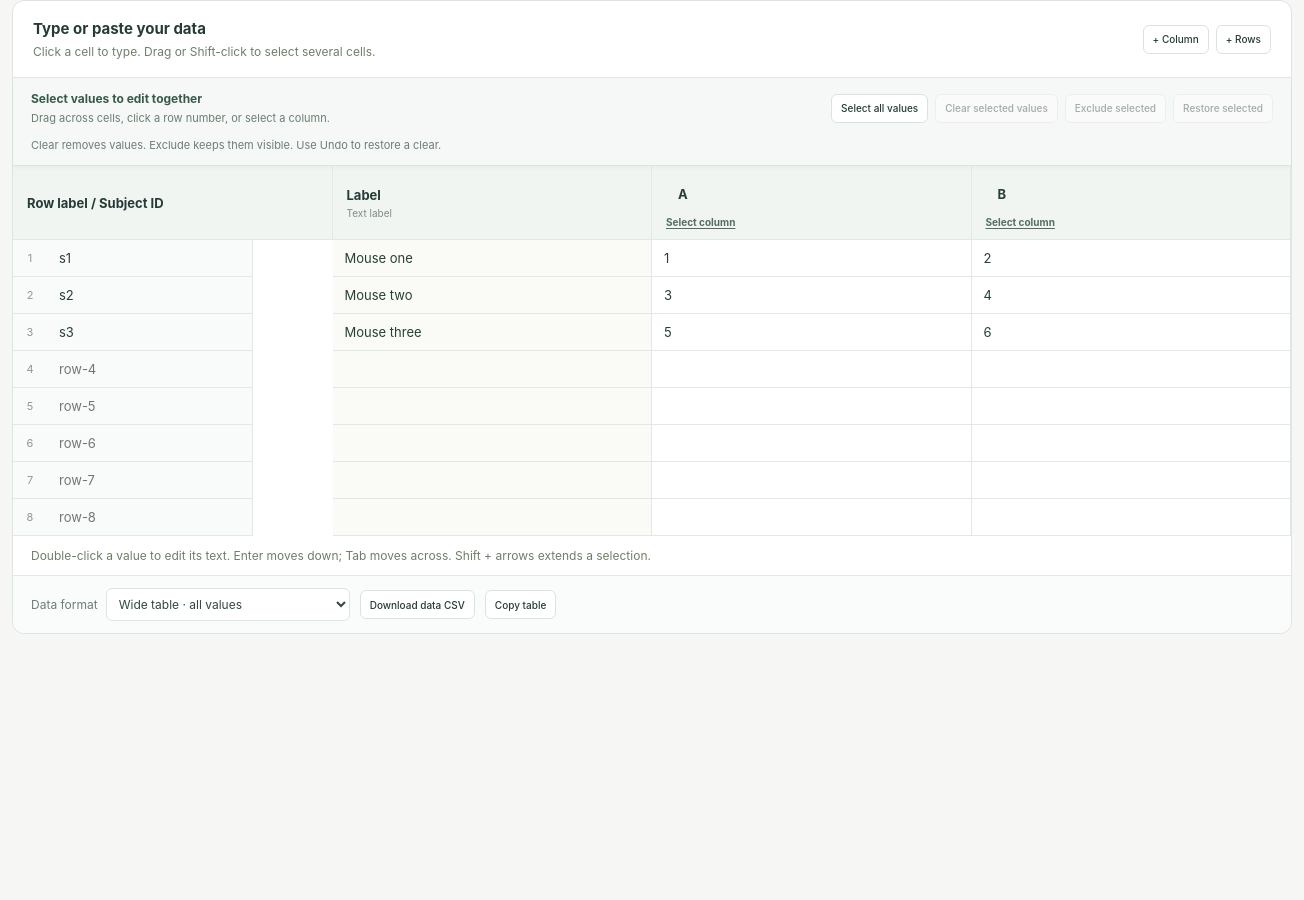
Test: offers visible multi-cell clear and keeps the cleared rows and labels after reopening the table
Press the mouse on the field named "A, row 1" at (811, 258), box x1=652 y1=240 x2=970 y2=276
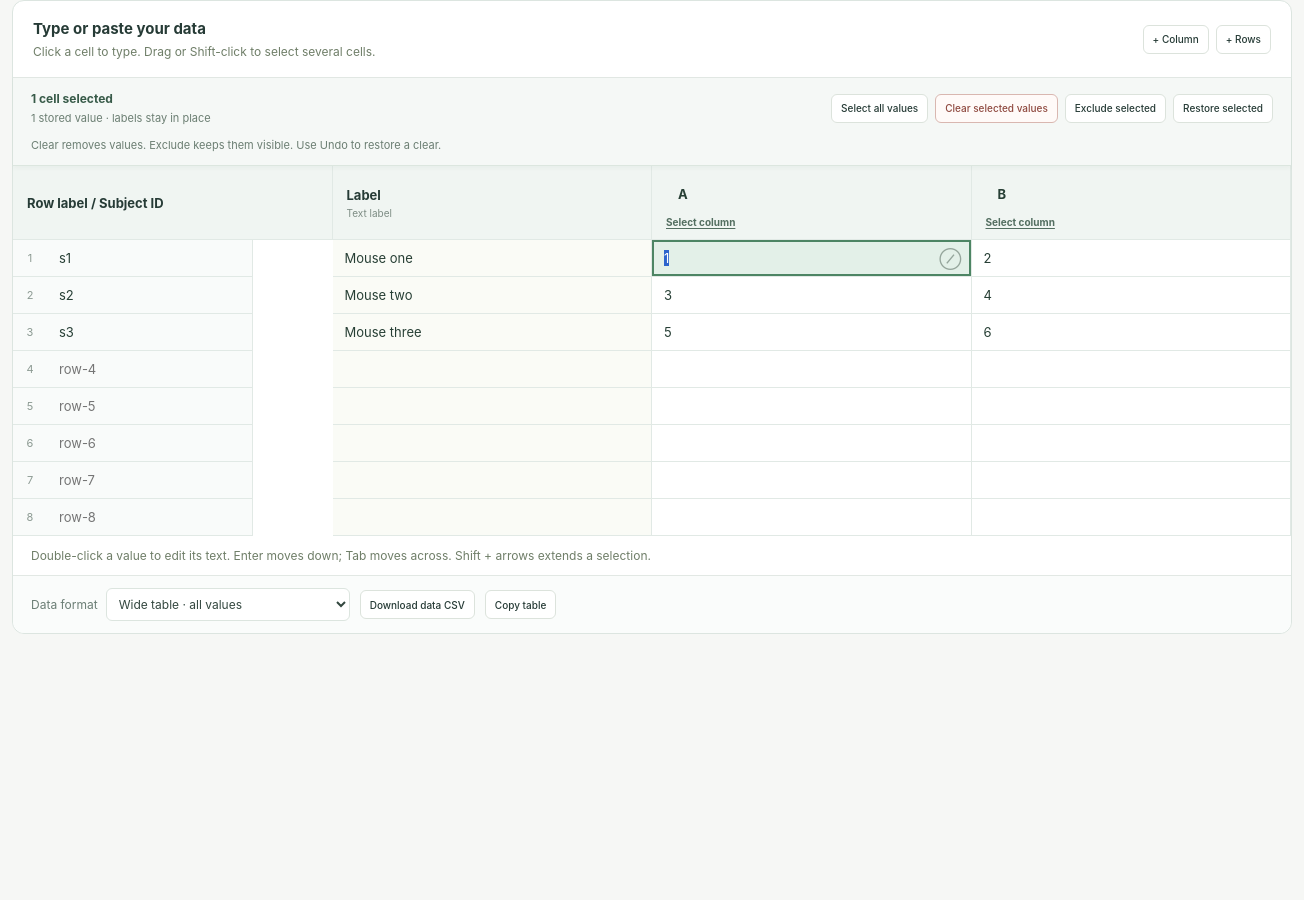
Press the mouse on the field named "B, row 2" at (1131, 295), box x1=972 y1=277 x2=1290 y2=313
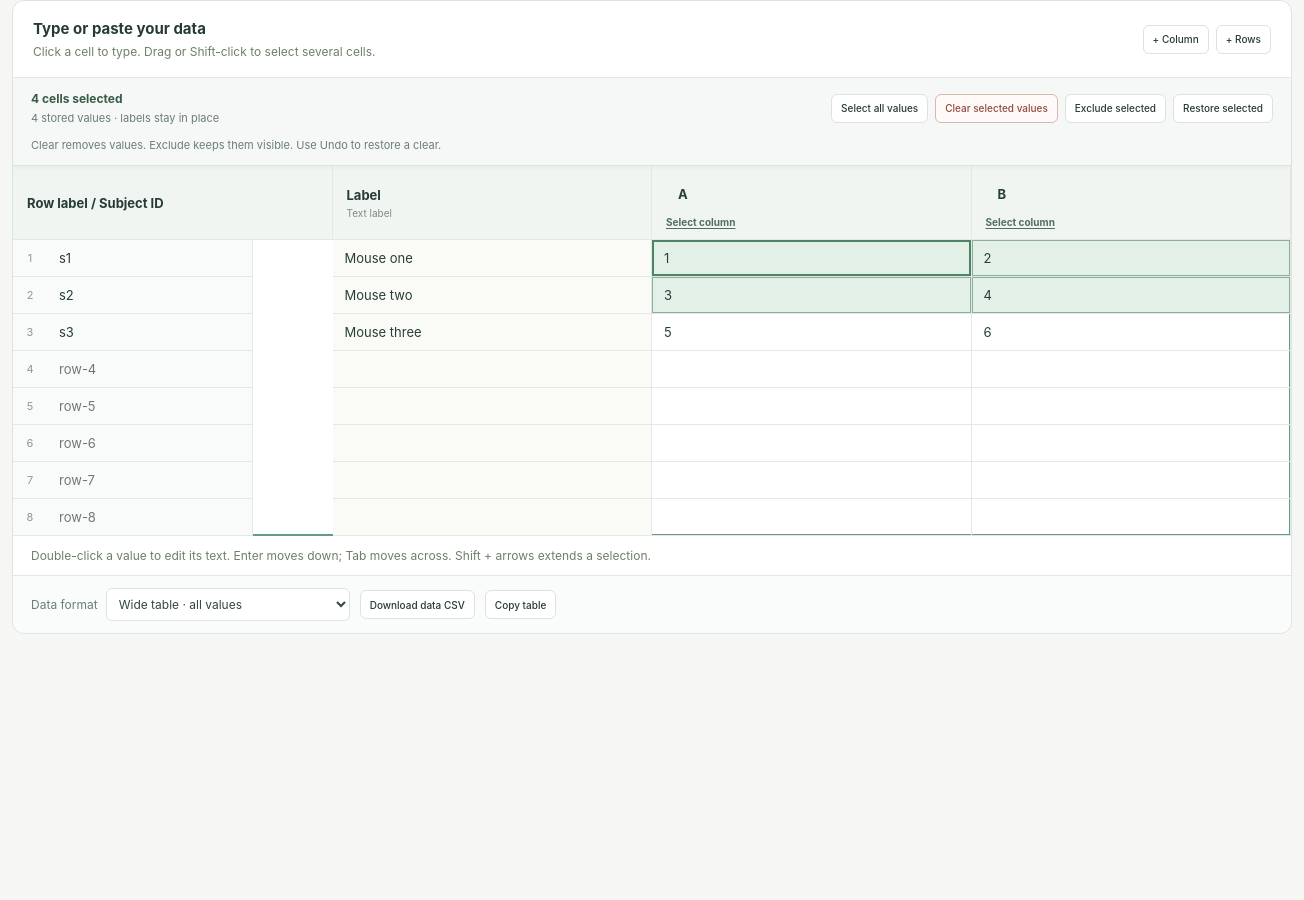
Expected: the button "Clear selected values" is enabled
Expected: the text "4 cells selected" is shown, x1=31 y1=91 x2=123 y2=106
Click the button "Clear selected values" at (997, 108), box x1=935 y1=94 x2=1058 y2=122
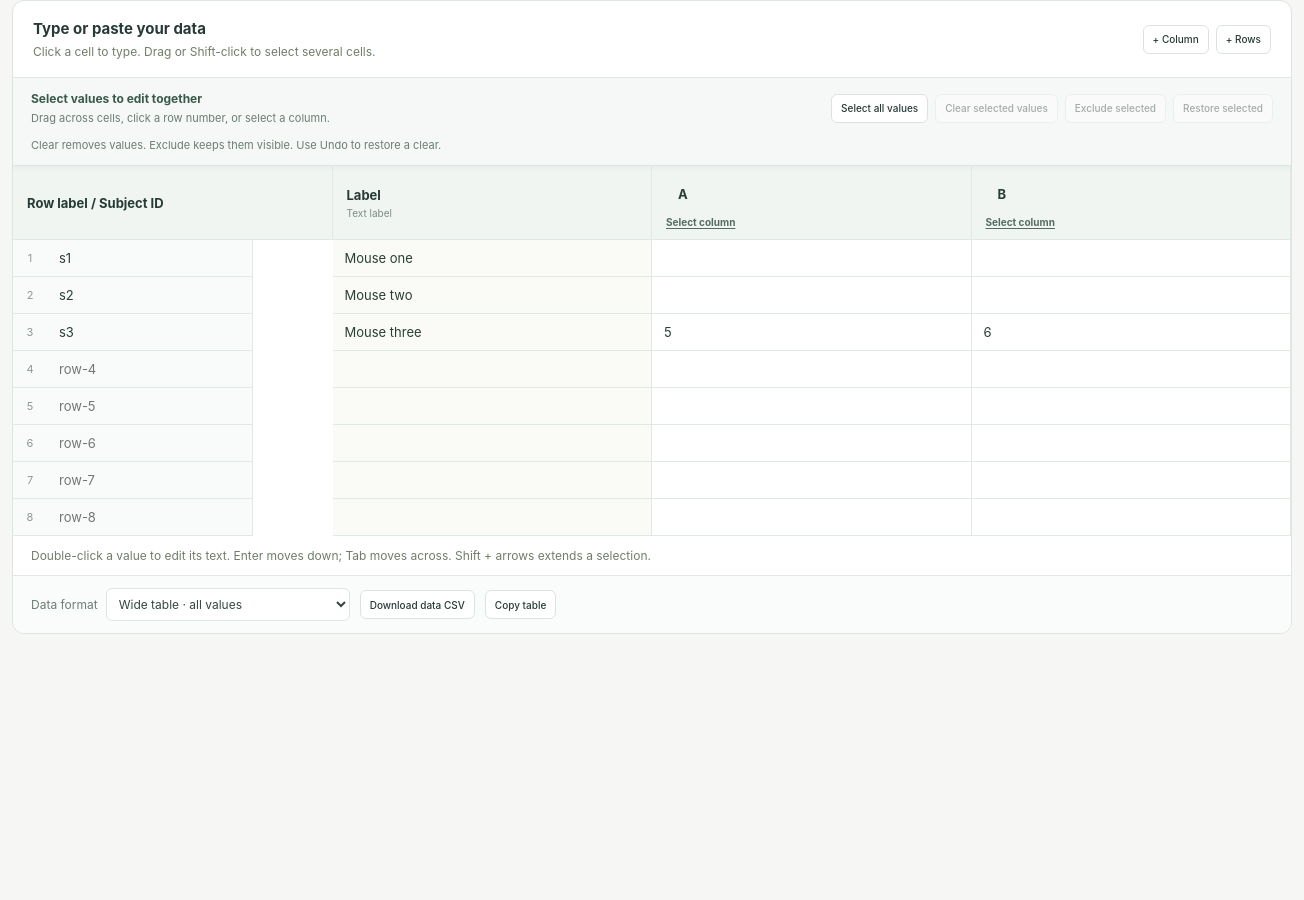
Expected: the field named "Label, row 1" holds "Mouse one", x1=332 y1=240 x2=651 y2=276
Expected: the field named "A, row 1" is empty, x1=652 y1=240 x2=970 y2=276
